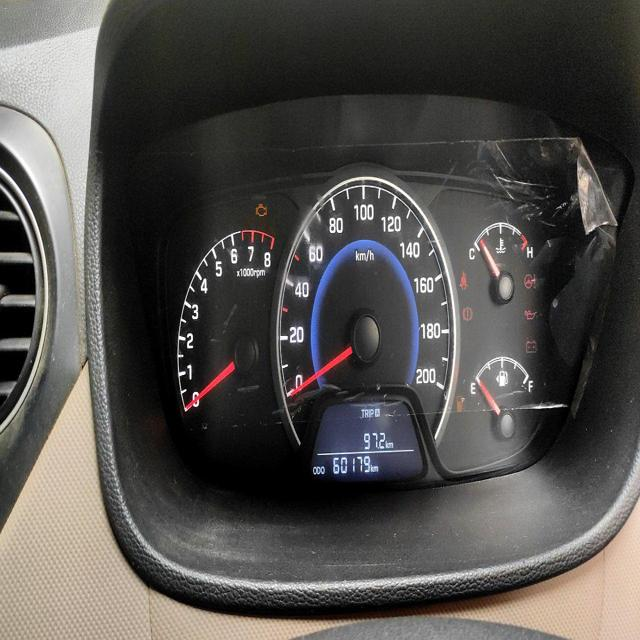odometer: (331, 454, 372, 479)
